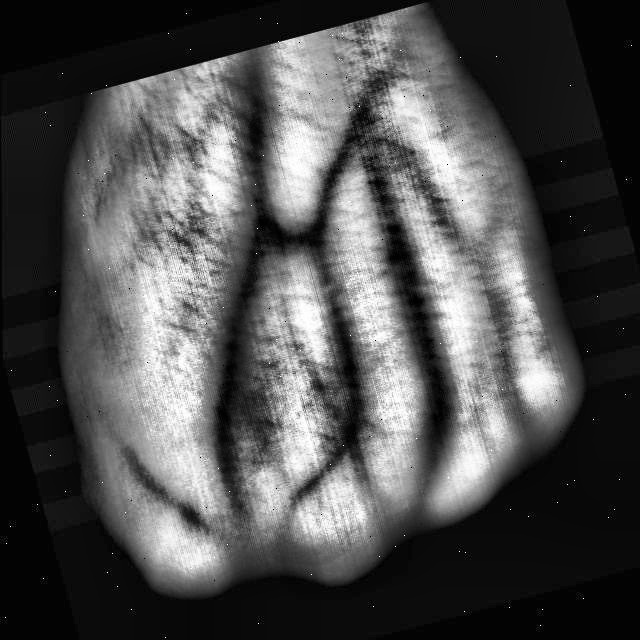Vein: (344, 113, 451, 381), (225, 97, 278, 335)
